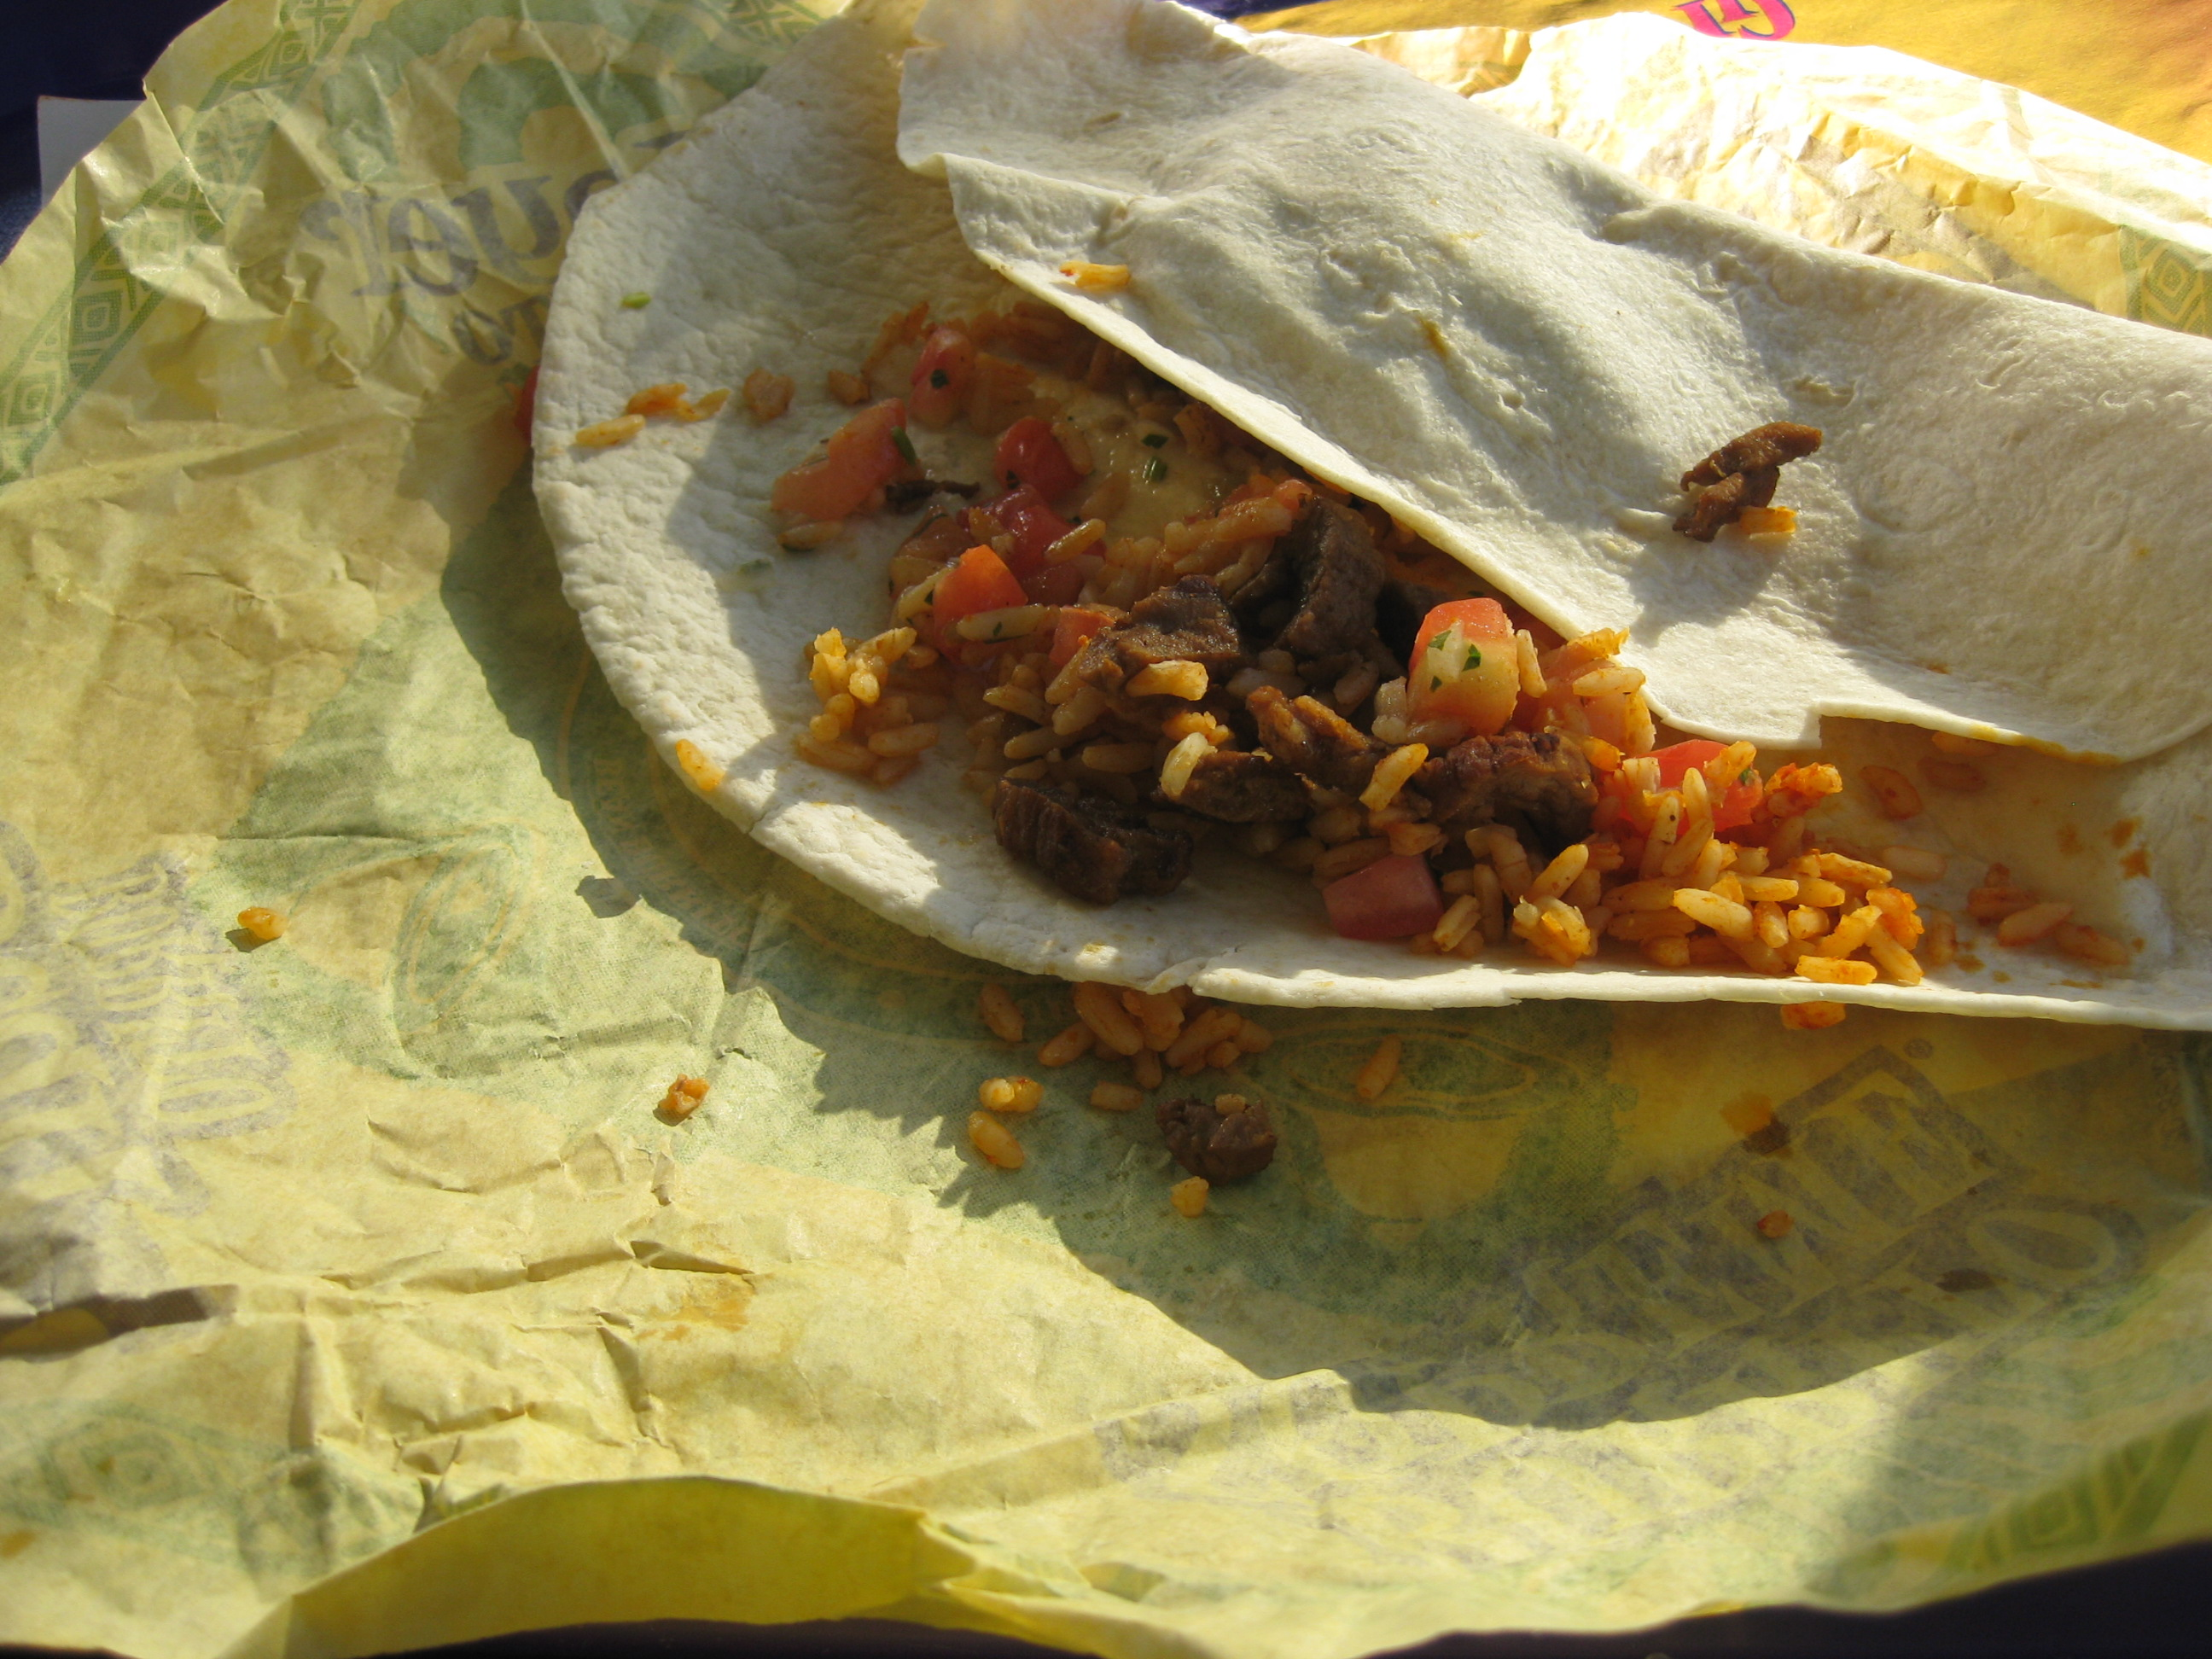taco: (561, 12, 2116, 1091)
